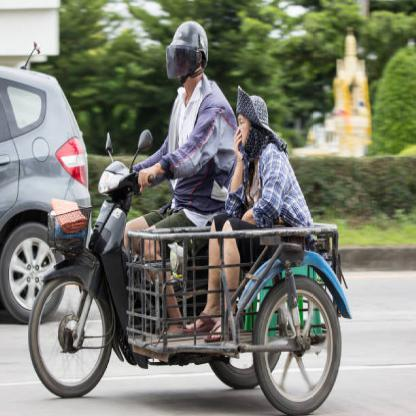Motorcycle: (37, 166, 126, 386)
